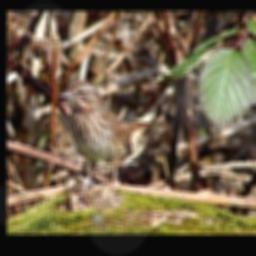Sparrow: (59, 80, 156, 200)
